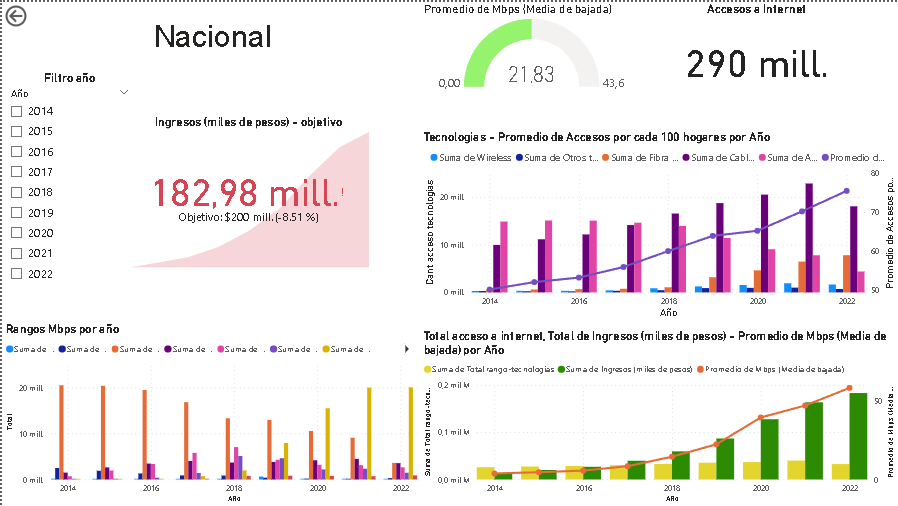

What the dashboard file says about the page in this screenshot:
{"tool":"powerbi","page":{"name":"Página 7","canvas":[1280,720],"ordinal":0},"visuals":[{"type":"textbox","box":[211.3,20.1,194,66.1],"z":0},{"type":"slicer","title":"Filtro año","fields":{"Values":["Nacional.Año"]},"box":[0,99.2,194,320.5],"z":1000},{"type":"gauge","fields":{"Y":["Avg(Nacional.Mbps (Media de bajada))"]},"box":[597.8,0,327.7,130.8],"z":2000},{"type":"clusteredColumnChart","title":"Rangos Mbps por año","fields":{"Category":["Nacional_rangos.Año"],"Y":["Sum(Nacional_rangos.Hasta 512 kbps)","Sum(Nacional_rangos.Entre 512 Kbps y 1 Mbps)","Sum(Nacional_rangos.Entre 1 Mbps y 6 Mbps)","Sum(Nacional_rangos.Entre 6 Mbps y 10 Mbps)","Sum(Nacional_rangos.Entre 10 Mbps y 20 Mbps)","Sum(Nacional_rangos.Entre 20 Mbps y 30 Mbps)","Sum(Nacional_rangos.Más de 30 Mbps)","Sum(Nacional_rangos.Otros rangos)"]},"box":[0,457,597.8,263],"z":3000},{"type":"lineClusteredColumnComboChart","title":"Tecnologias - Promedio de Accesos por cada 100 hogares por Año","fields":{"Category":["Nacional.Año"],"Y":["Sum(Nacional.Wireless)","Sum(Nacional.Otros)","Sum(Nacional.Fibra óptica)","Sum(Nacional.Cablemodem)","Sum(Nacional.ADSL)"],"Y2":["Avg(Nacional.Accesos por cada 100 hogares)"]},"box":[597.8,182.5,682.6,274.5],"z":4000},{"type":"lineClusteredColumnComboChart","title":"Total acceso a internet, Total de Ingresos (miles de pesos) - Promedio de Mbps (Media de bajada) por Año","fields":{"Category":["Nacional.Año"],"Y":["Sum(Nacional.Total)","Sum(Nacional.Ingresos (miles de pesos))"],"Y2":["Avg(Nacional.Mbps (Media de bajada))"]},"box":[597.8,467.1,682.6,252.9],"z":5000},{"type":"card","title":"Accesos a Internet","fields":{"Values":["Sum(Nacional.Total rango-tecnologias)"]},"box":[888.1,0,379.4,143.7],"z":6000},{"type":"kpi","title":"Ingresos (miles de pesos) - objetivo","fields":{"TrendLine":["Nacional.Año"],"Indicator":["Sum(Nacional.Ingresos (miles de pesos))"],"Goal":["Nacional.objetivo"]},"box":[175.3,161,353.5,222.8],"z":7000},{"type":"actionButton","box":[0,0,100,40],"z":7001}]}

Visuals, with their boxes in screenshot pixels (x1, y1, x2, y2), scaled from the page's 1280x720 canvas onto the 898x506 screenshot:
textbox: x1=148, y1=14, x2=284, y2=61
"Filtro año" slicer: x1=0, y1=70, x2=136, y2=295
gauge - Avg(Nacional.Mbps (Media de bajada)): x1=419, y1=0, x2=649, y2=92
"Rangos Mbps por año" clusteredColumnChart: x1=0, y1=321, x2=419, y2=505
"Tecnologias - Promedio de Accesos por cada 100 hogares por Año" lineClusteredColumnComboChart: x1=419, y1=128, x2=897, y2=321
"Total acceso a internet, Total de Ingresos (miles de pesos) - Promedio de Mbps (Media de bajada) por Año" lineClusteredColumnComboChart: x1=419, y1=328, x2=897, y2=505
"Accesos a Internet" card: x1=623, y1=0, x2=889, y2=101
"Ingresos (miles de pesos) - objetivo" kpi: x1=123, y1=113, x2=371, y2=270
actionButton: x1=0, y1=0, x2=70, y2=28
